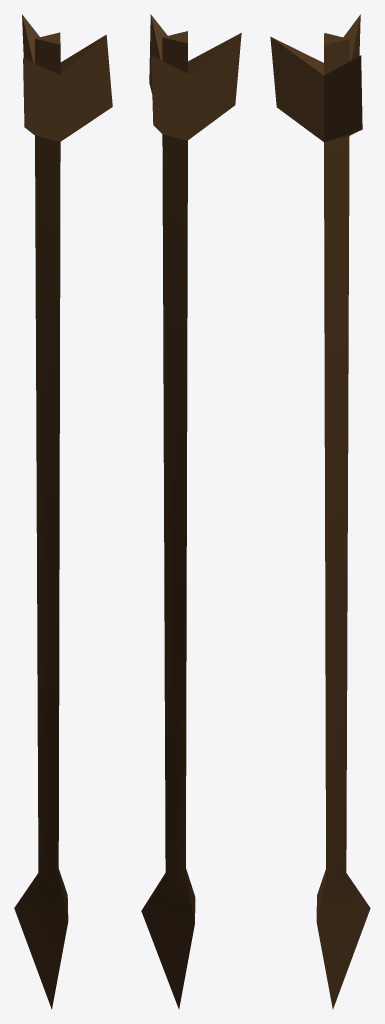
The model's file is arrow.fbx.
The picture shows the model from 3 angles, left to right: view 1: azimuth 30°, elevation 25°; view 2: azimuth 150°, elevation 25°; view 3: azimuth 330°, elevation 25°; orthographic projection.
Parts seen in each view (by area): view 1: arrow; view 2: arrow; view 3: arrow.
Part boxes in pixels (<box>): arrow: <box>14,14,112,1009</box>; arrow: <box>141,14,241,1009</box>; arrow: <box>270,14,370,1009</box>.
Size of the model in its own units: 11.01 by 113 by 9.58.
